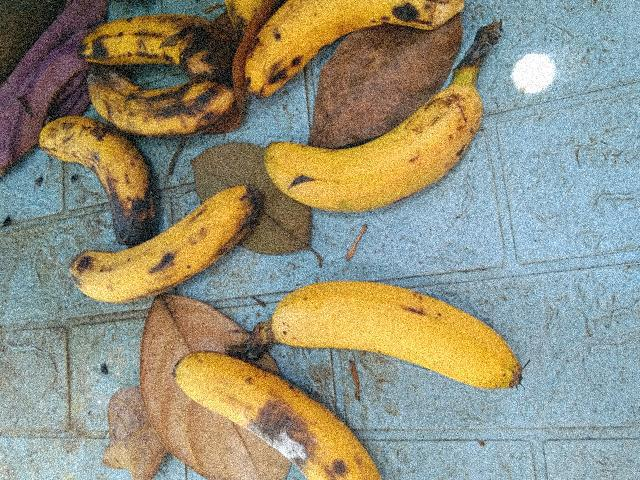freshripe: (253, 273, 548, 397)
ripe: (248, 83, 505, 230), (166, 357, 410, 479), (51, 176, 263, 311), (229, 0, 463, 106)
rotten: (32, 117, 155, 242), (70, 71, 243, 138), (72, 18, 243, 72), (239, 402, 332, 479)
